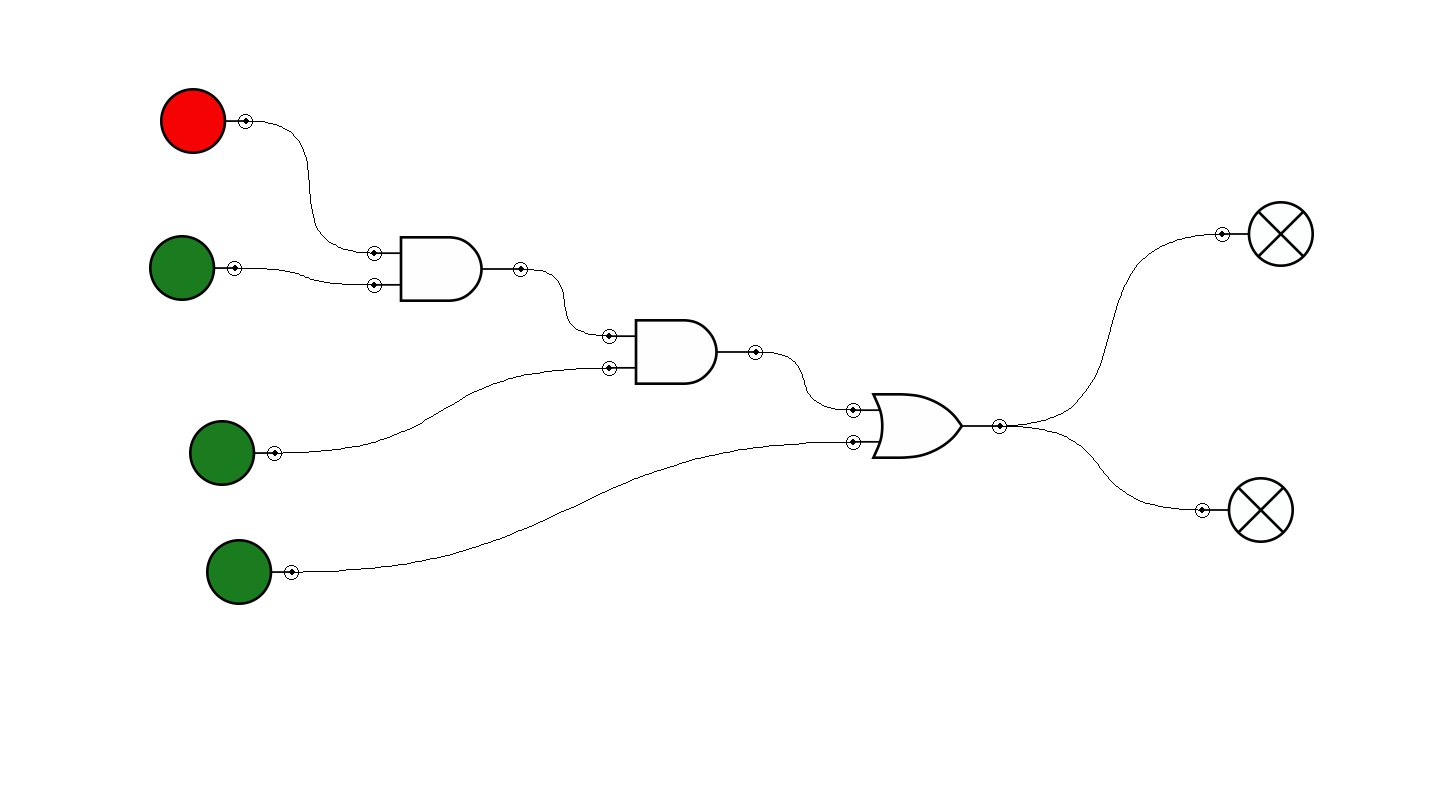and: (367, 236, 528, 302), (602, 319, 763, 385)
bulb: (1195, 477, 1294, 543), (1215, 201, 1314, 267)
or: (846, 393, 1007, 459)
switch_False: (160, 88, 253, 154)
switch_True: (206, 539, 299, 605), (189, 420, 282, 486), (149, 235, 242, 301)
